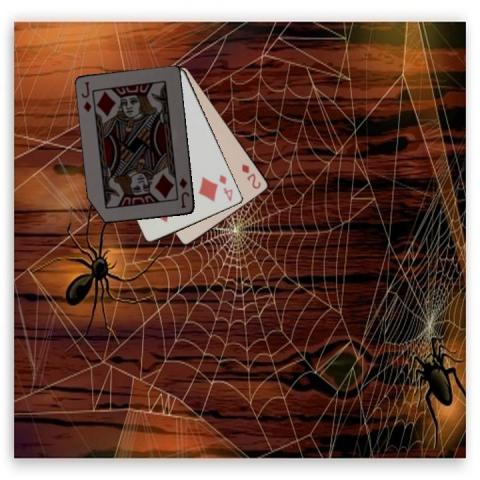2d: (238, 161, 262, 191)
4d: (216, 172, 235, 204)
Jd: (176, 175, 190, 210), (79, 79, 93, 113)
